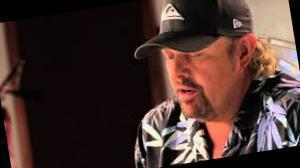Drunk: (164, 49, 227, 122)
